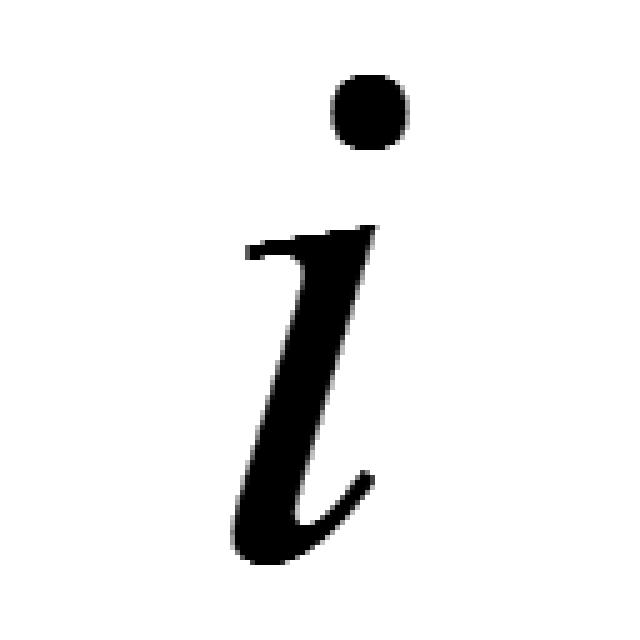I: (225, 70, 425, 562)
